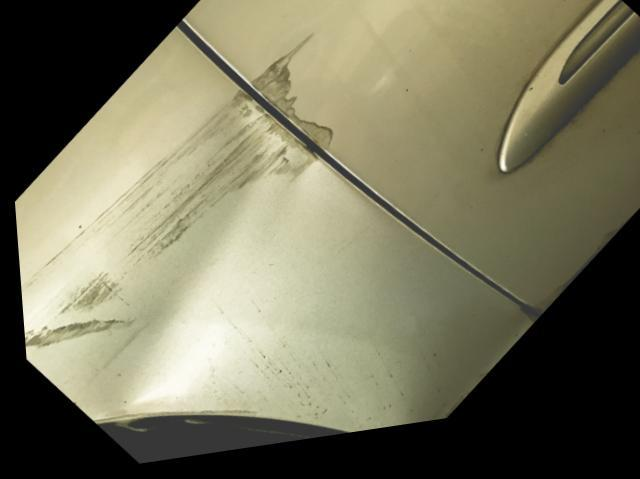scratch: (17, 94, 315, 354), (525, 229, 631, 334), (245, 40, 336, 159), (425, 379, 485, 433)
